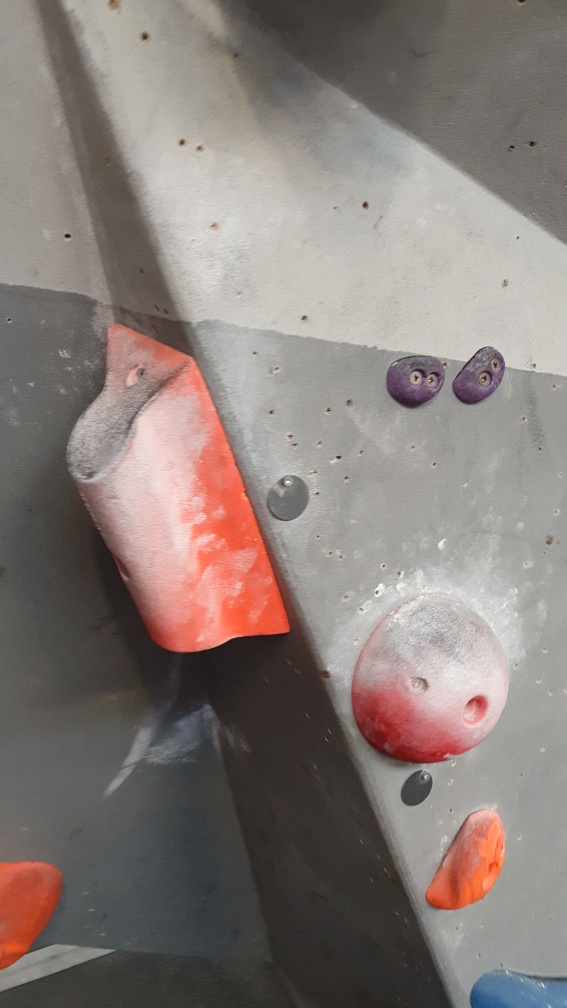Hand Start: (265, 468, 315, 525), (399, 769, 437, 812)
Pinch: (61, 318, 294, 669)
Sloper: (347, 589, 507, 761)
